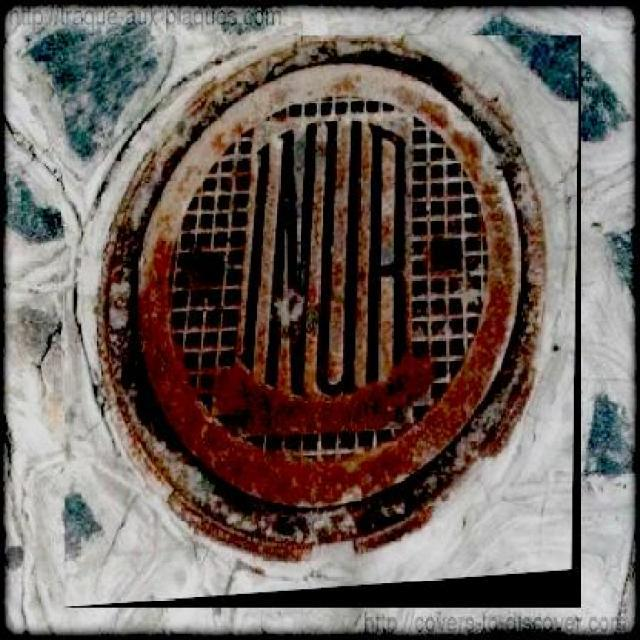Manhole: (64, 35, 580, 608)
